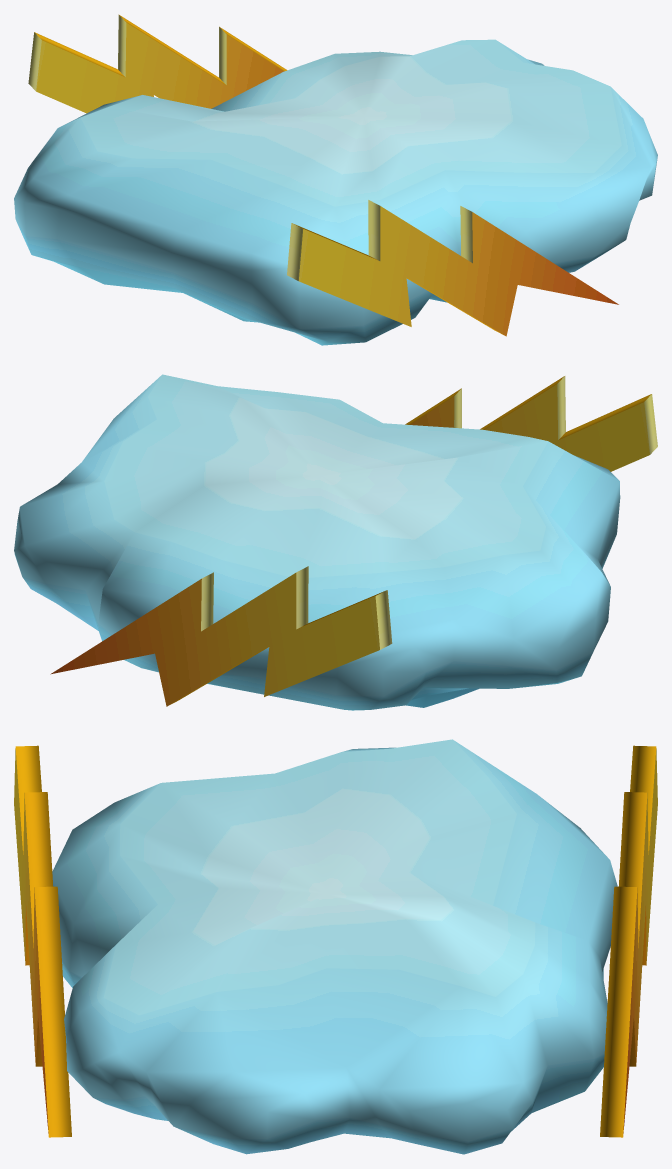
Rendered from Cloud.glb.
3 renders of one model, top to bottom at view 1: azimuth 30°, elevation 25°; view 2: azimuth 150°, elevation 25°; view 3: azimuth 270°, elevation 25°, orthographic. The views are drawn at different scales.
Parts seen in each view (by area): view 1: Cloud; view 2: Cloud; view 3: Cloud.
Part boxes in pixels (bbox=[...]): Cloud: bbox=[14, 14, 657, 345]; Cloud: bbox=[14, 374, 657, 710]; Cloud: bbox=[14, 739, 657, 1154].
Size of the model in its own units: 7.18 by 2.45 by 6.09.
Materials: 1 (1 with a texture image).
